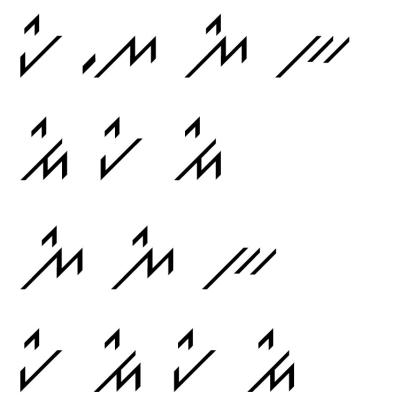di: (165, 112, 230, 184), (240, 324, 303, 397), (84, 327, 150, 396), (16, 113, 72, 184)
ni: (13, 220, 88, 295), (179, 9, 254, 83), (106, 221, 178, 292)
pi: (86, 112, 144, 181), (12, 13, 65, 82), (169, 327, 222, 394), (14, 326, 66, 394)
